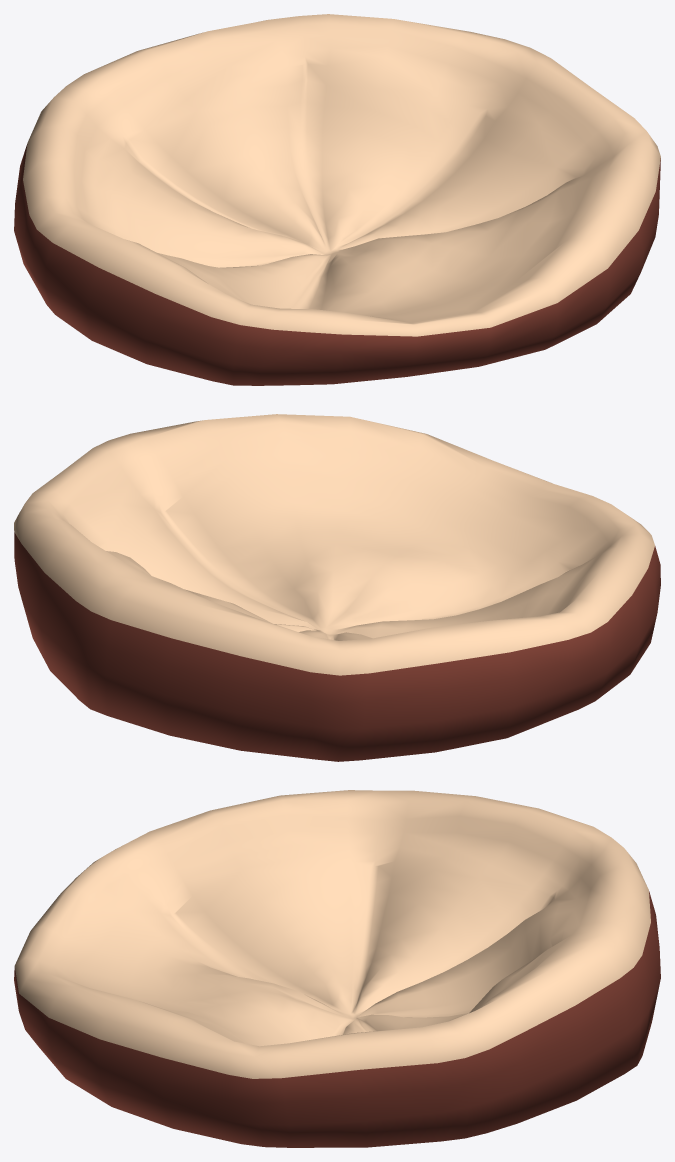
Rendered from cat_bed.fbx.
The picture shows the model from 3 angles, top to bottom: view 1: azimuth 30°, elevation 25°; view 2: azimuth 150°, elevation 25°; view 3: azimuth 270°, elevation 25°; orthographic projection. The views are drawn at different scales.
Visible parts, largest first — view 1: Cat Bed; view 2: Cat Bed; view 3: Cat Bed.
Boxes of the visible parts, left/top/right/bottom form: Cat Bed: left=14, top=14, right=660, bottom=385; Cat Bed: left=14, top=414, right=660, bottom=761; Cat Bed: left=14, top=790, right=660, bottom=1147.
Bounding box in the file's own units: 262 × 62.71 × 255.
